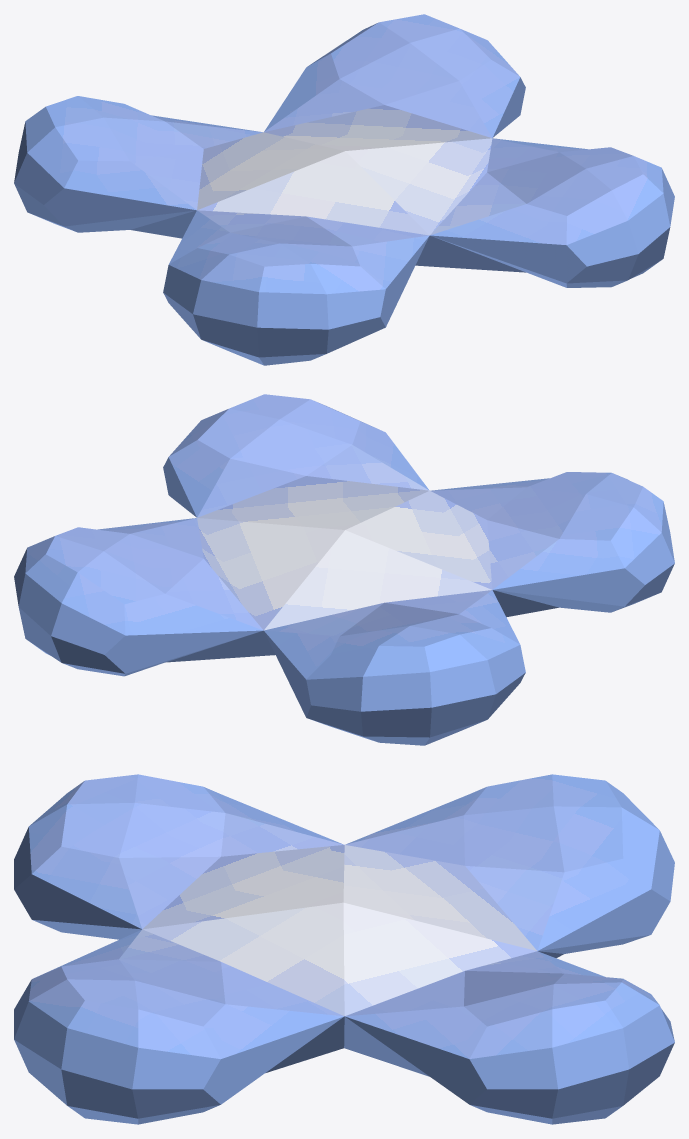
File: flower-blue.gltf
3 views of the same model, one above another, from view 1: azimuth 30°, elevation 25°; view 2: azimuth 150°, elevation 25°; view 3: azimuth 270°, elevation 25° (orthographic). The views are drawn at different scales.
Visible parts, largest first — view 1: flower; view 2: flower; view 3: flower.
Part boxes in pixels (bbox=[...]): flower: bbox=[14, 14, 674, 365]; flower: bbox=[14, 394, 674, 745]; flower: bbox=[14, 774, 674, 1124].
Size of the model in its own units: 0.1167 by 0.0234 by 0.1164.
Materials: 1 (1 with a texture image).
